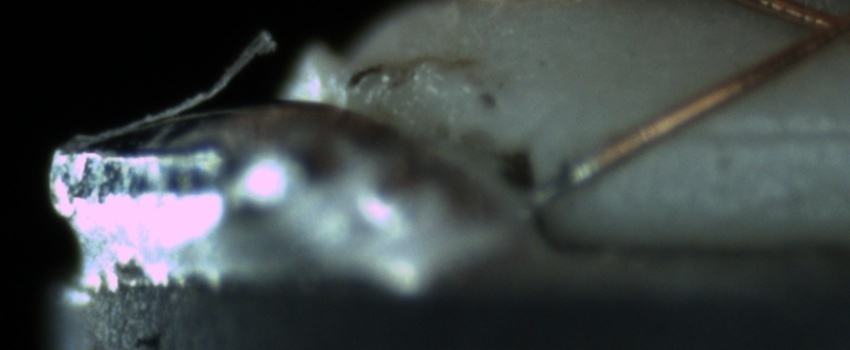CL: (776, 1, 849, 60)
DL: (673, 98, 850, 164)
TS: (531, 152, 603, 211)
TTCW: (528, 134, 626, 212)
